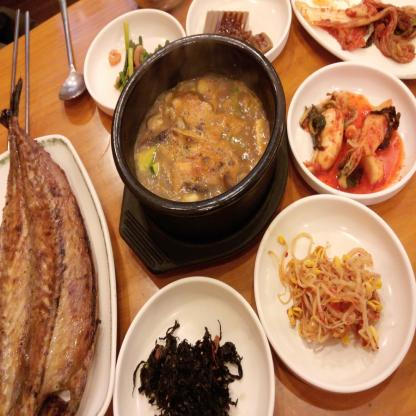Peixe: (0, 88, 101, 416)
